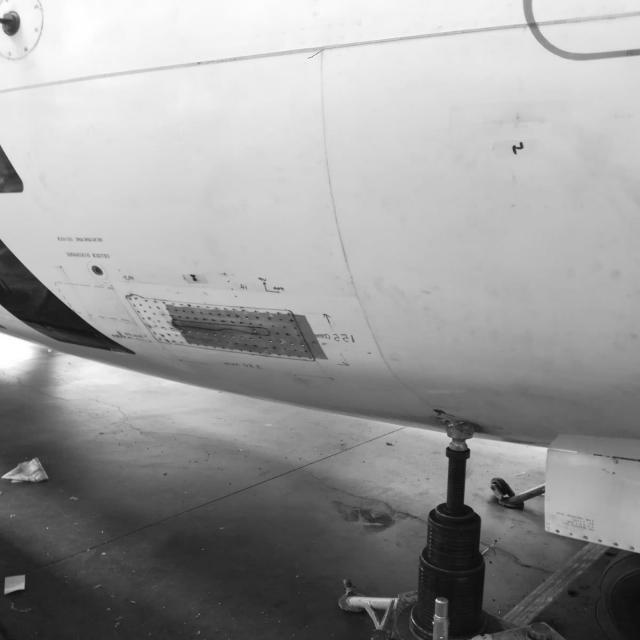crack: (301, 46, 334, 65)
